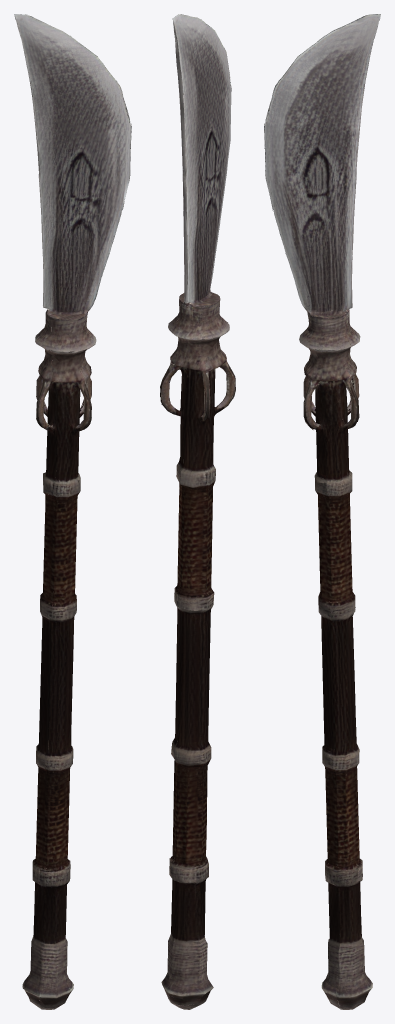
Rendered from Weapon_T3.fbx.
3 views of the same model, side by side, from view 1: azimuth 90°, elevation 25°; view 2: azimuth 150°, elevation 25°; view 3: azimuth 270°, elevation 25° (orthographic).
Parts seen in each view (by area): view 1: Vanguard_Weapon; view 2: Vanguard_Weapon; view 3: Vanguard_Weapon.
Part boxes in pixels (left/top/right/bottom): Vanguard_Weapon: left=14, top=14, right=131, bottom=1009; Vanguard_Weapon: left=160, top=14, right=235, bottom=1009; Vanguard_Weapon: left=264, top=14, right=380, bottom=1009.
Bounding box in the file's own units: 0.1063 × 1.9 × 0.2031.
1 material, 1 textured.
